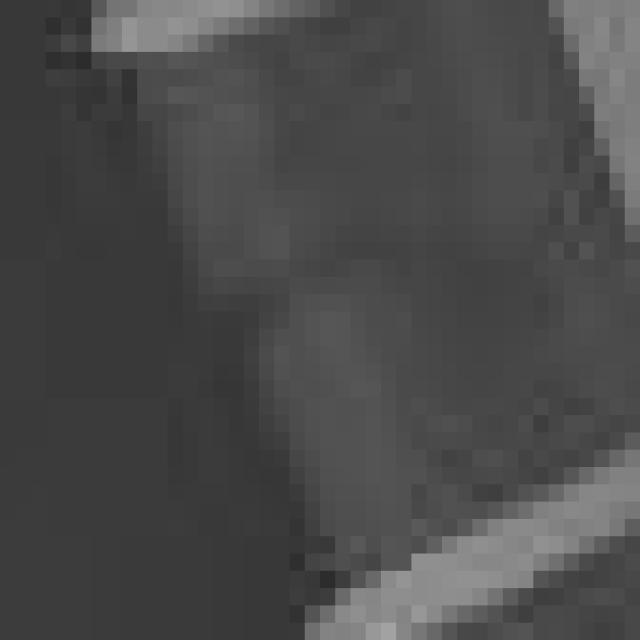fracture: (13, 10, 640, 640)
